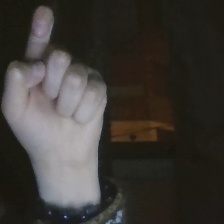X: (1, 1, 114, 177)
